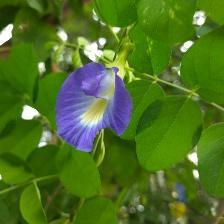shankupushpam: (52, 57, 136, 156)
